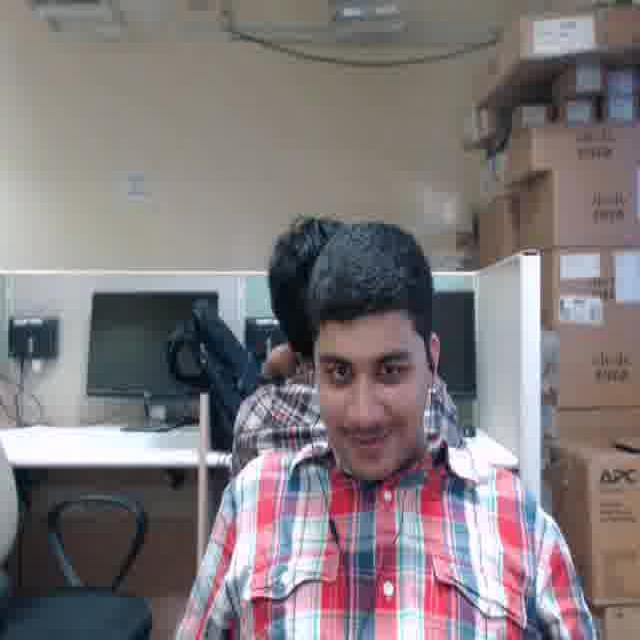Engaged: (313, 307, 422, 476)
